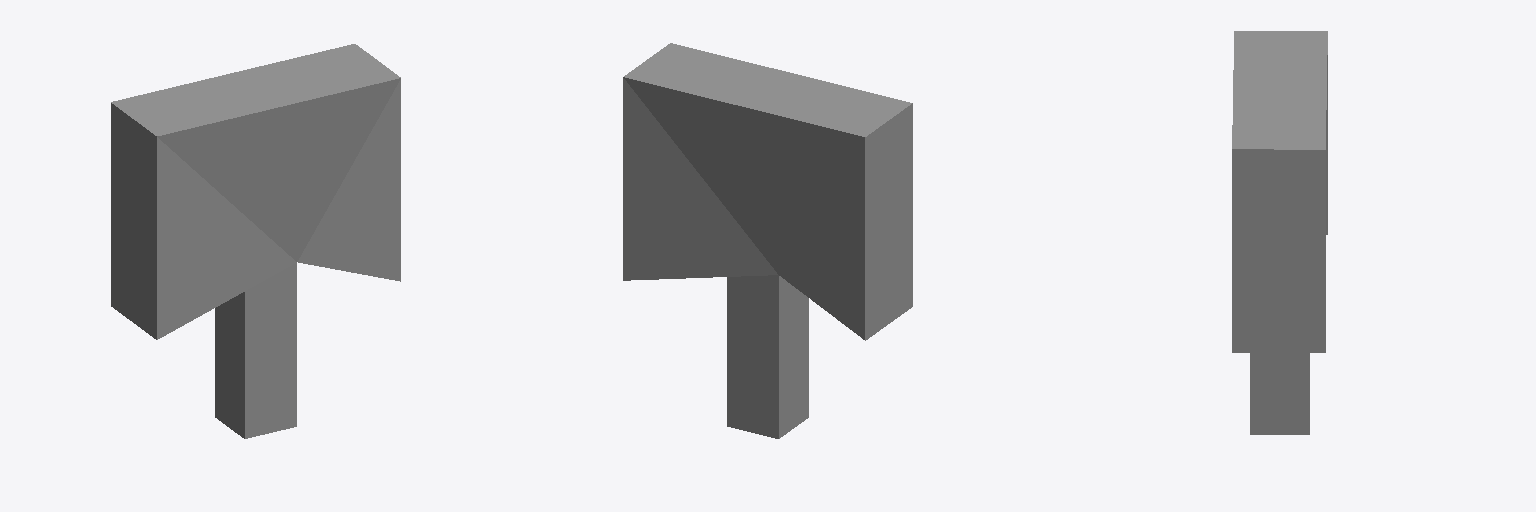
The model's file is SignPost.obj.
The picture shows the model from 3 angles: view 1: azimuth 30°, elevation 25°; view 2: azimuth 150°, elevation 25°; view 3: azimuth 270°, elevation 25°; orthographic projection.
Parts seen in each view (by area): view 1: Cube; view 2: Cube; view 3: Cube.
Boxes of the visible parts, x1=… form: Cube: x1=111, y1=44, x2=400, y2=438; Cube: x1=623, y1=43, x2=912, y2=438; Cube: x1=1232, y1=31, x2=1327, y2=434.
Bounding box in the file's own units: 1.05 × 1.36 × 0.3562.